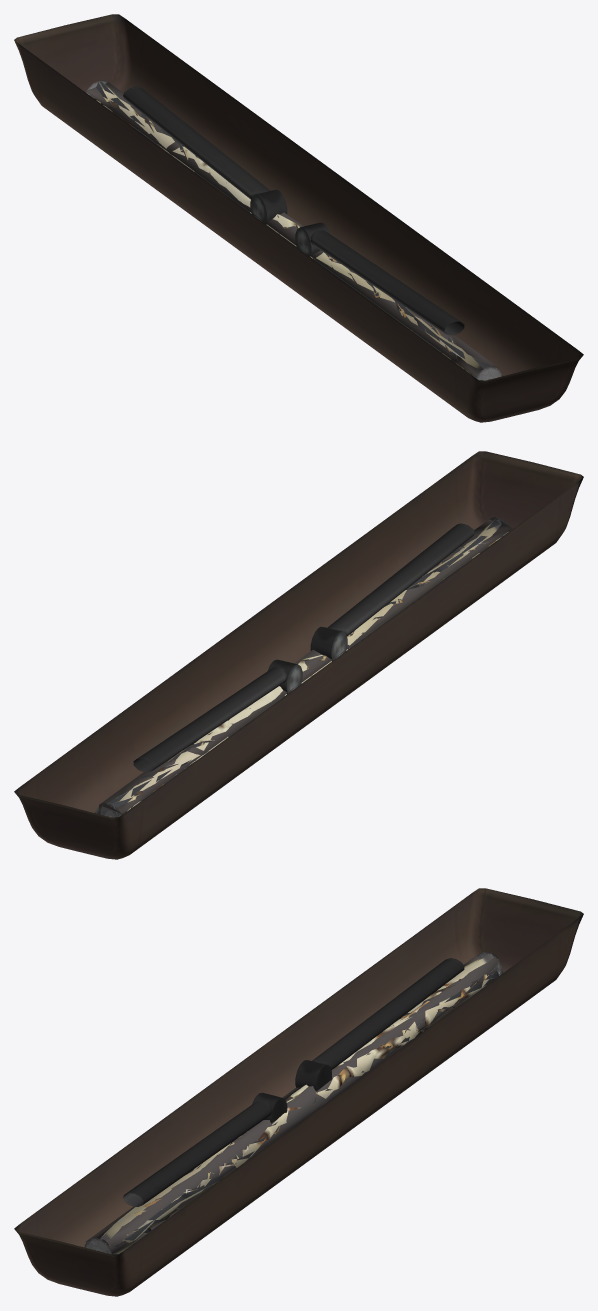
Rendered from projector.glb.
3 views of the same model, one above another, from view 1: azimuth 30°, elevation 25°; view 2: azimuth 150°, elevation 25°; view 3: azimuth 330°, elevation 25° (orthographic).
Parts seen in each view (by area): view 1: @ME9x1tr5_012.001, 电动幕布_卷收幕面.001; view 2: @ME9x1tr5_012.001, 电动幕布_卷收幕面.001; view 3: @ME9x1tr5_012.001, 电动幕布_卷收幕面.001.
Part boxes in pixels (left/top/right/bottom): @ME9x1tr5_012.001: left=14, top=14, right=583, bottom=422; 电动幕布_卷收幕面.001: left=85, top=80, right=501, bottom=380; @ME9x1tr5_012.001: left=14, top=451, right=583, bottom=859; 电动幕布_卷收幕面.001: left=96, top=517, right=512, bottom=817; @ME9x1tr5_012.001: left=14, top=888, right=583, bottom=1296; 电动幕布_卷收幕面.001: left=84, top=952, right=503, bottom=1254.
Bounding box in the file's own units: 0.1056 × 0.0602 × 0.812.
2 materials, 2 textured.
